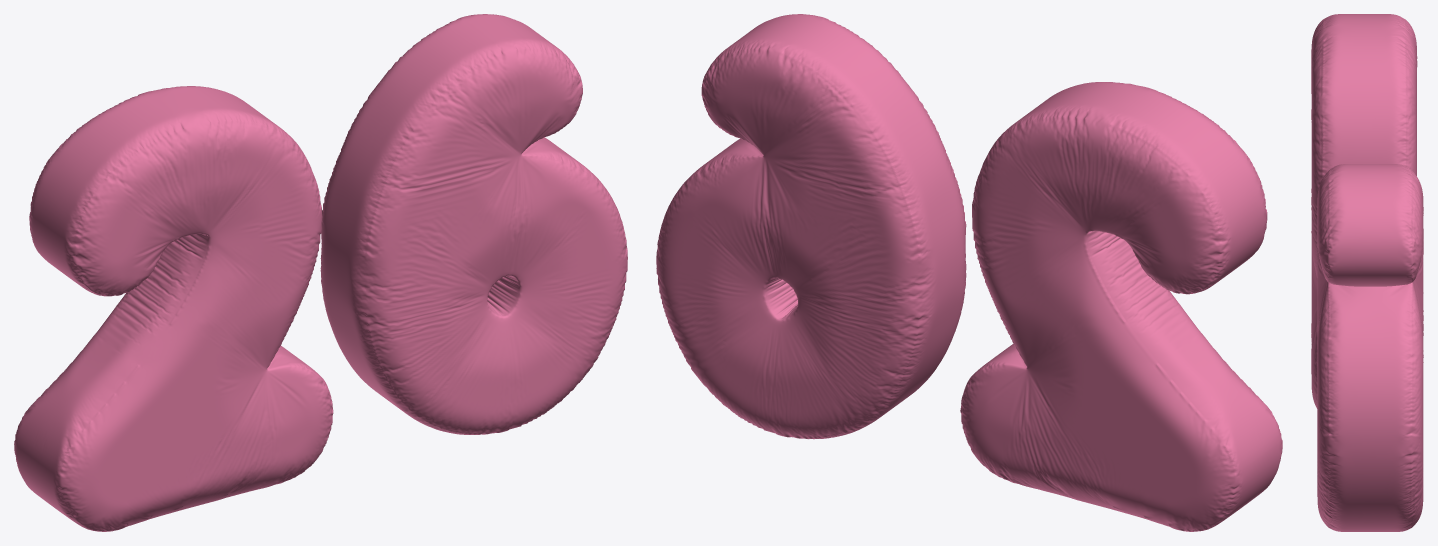
The model's file is jiwoobd.glb.
3 views of the same model, side by side, from view 1: azimuth 30°, elevation 25°; view 2: azimuth 150°, elevation 25°; view 3: azimuth 270°, elevation 25° (orthographic). The views are drawn at different scales.
Parts seen in each view (by area): view 1: 2, 6; view 2: 2, 6; view 3: 6, 2.
Part boxes in pixels (x1,y1,x2,y2): 2: [14, 86, 333, 531]; 6: [320, 14, 627, 434]; 2: [960, 82, 1282, 531]; 6: [656, 14, 966, 439]; 6: [1317, 164, 1423, 531]; 2: [1311, 14, 1417, 408].
Size of the model in its own units: 1.01 by 0.6725 by 0.1897.
